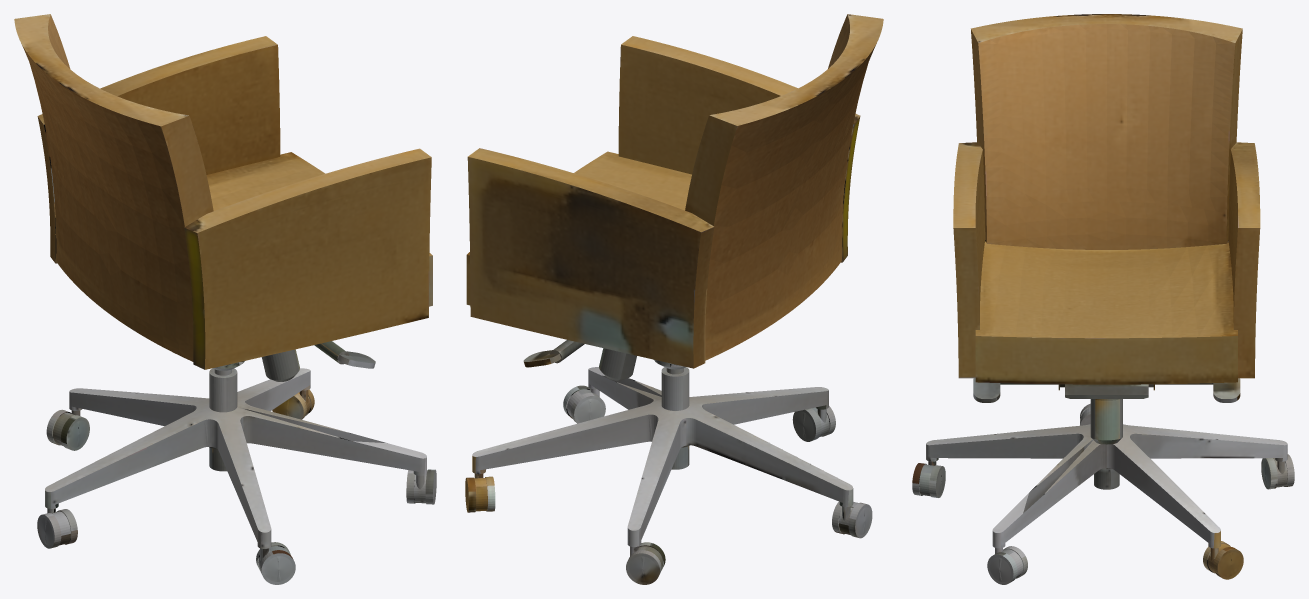
The picture shows the model from 3 angles, left to right: view 1: azimuth 30°, elevation 25°; view 2: azimuth 150°, elevation 25°; view 3: azimuth 270°, elevation 25°; orthographic projection. The views are drawn at different scales.
Visible parts, largest first — view 1: Node; view 2: Node; view 3: Node.
Part boxes in pixels (x1,y1,x2,y2): Node: (14, 14, 436, 584); Node: (465, 14, 883, 584); Node: (912, 14, 1294, 584).
Bounding box in the file's own units: 0.5543 × 0.7 × 0.5711.
1 material, 1 textured.
